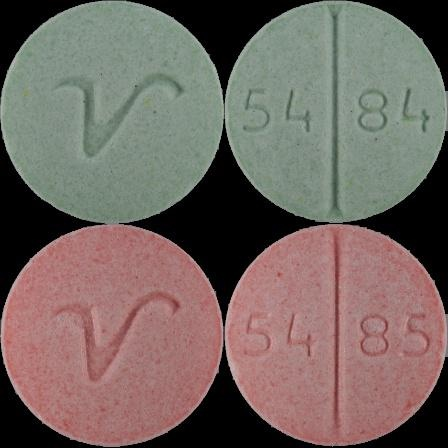0603-5484: (0, 0, 224, 224)
